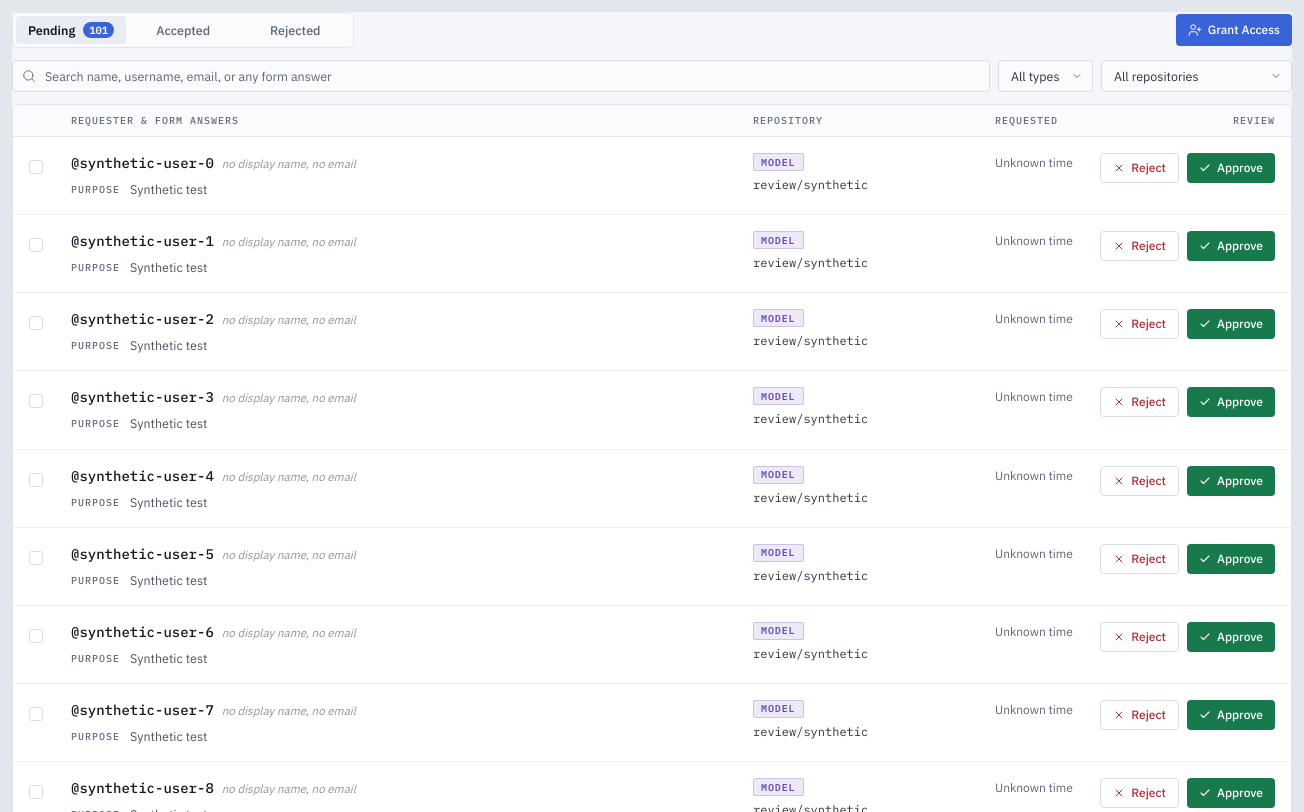
Test: real dashboard integration › caps Select All at 100 before sending the real bulk payload
Expected: the link "@synthetic-user-0" is shown, [71,153,214,173]
Click the checkbox named "Select synthetic-user-0".
click(36, 167)  # box [29,160,43,174]
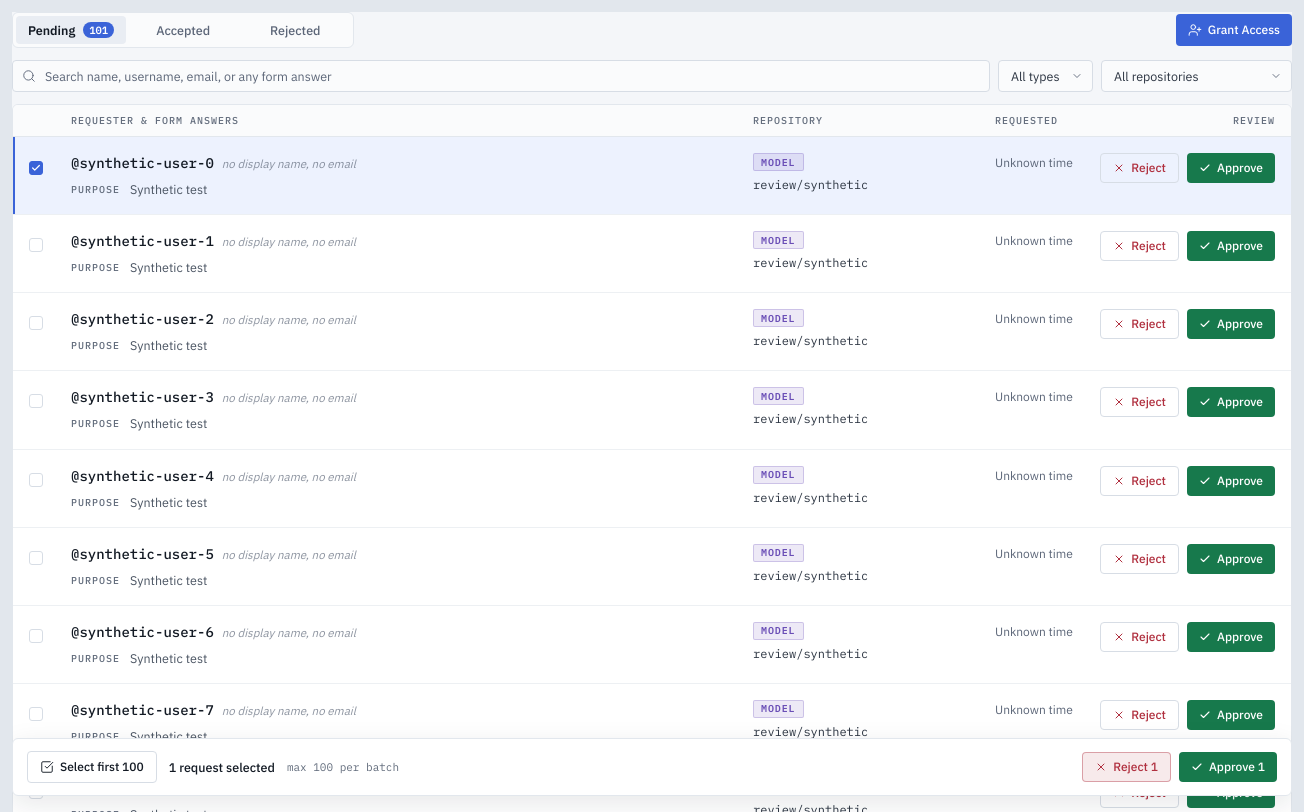
Click the button "Select first 100".
click(92, 767)  # box [27,751,157,783]
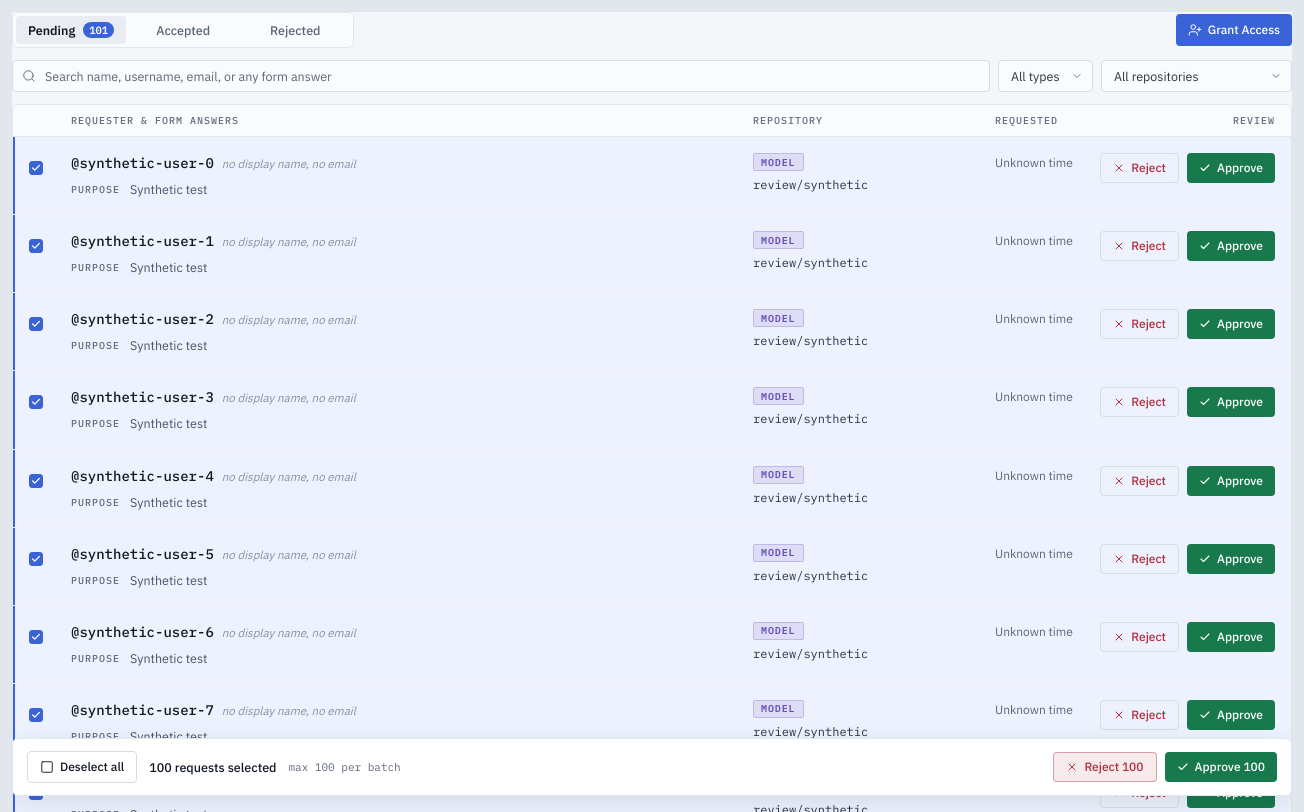
Click the button "Approve 100".
click(1221, 767)  # box [1164,752,1277,782]
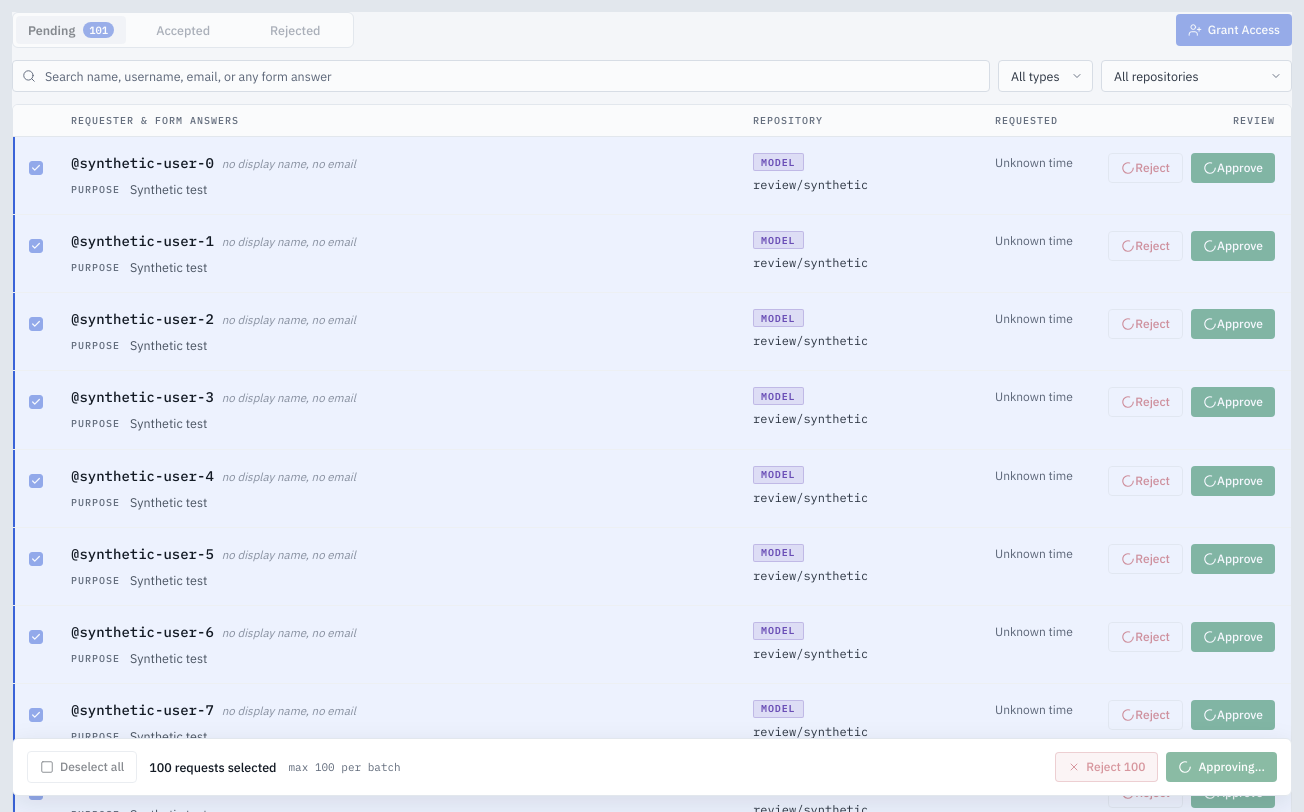
Expected: the button "Reject" in the row of "synthetic-user-0" is disabled, [1108,153,1183,183]
Press the mouse on the tab "Accepted" at (183, 30), box [128,16,238,44]
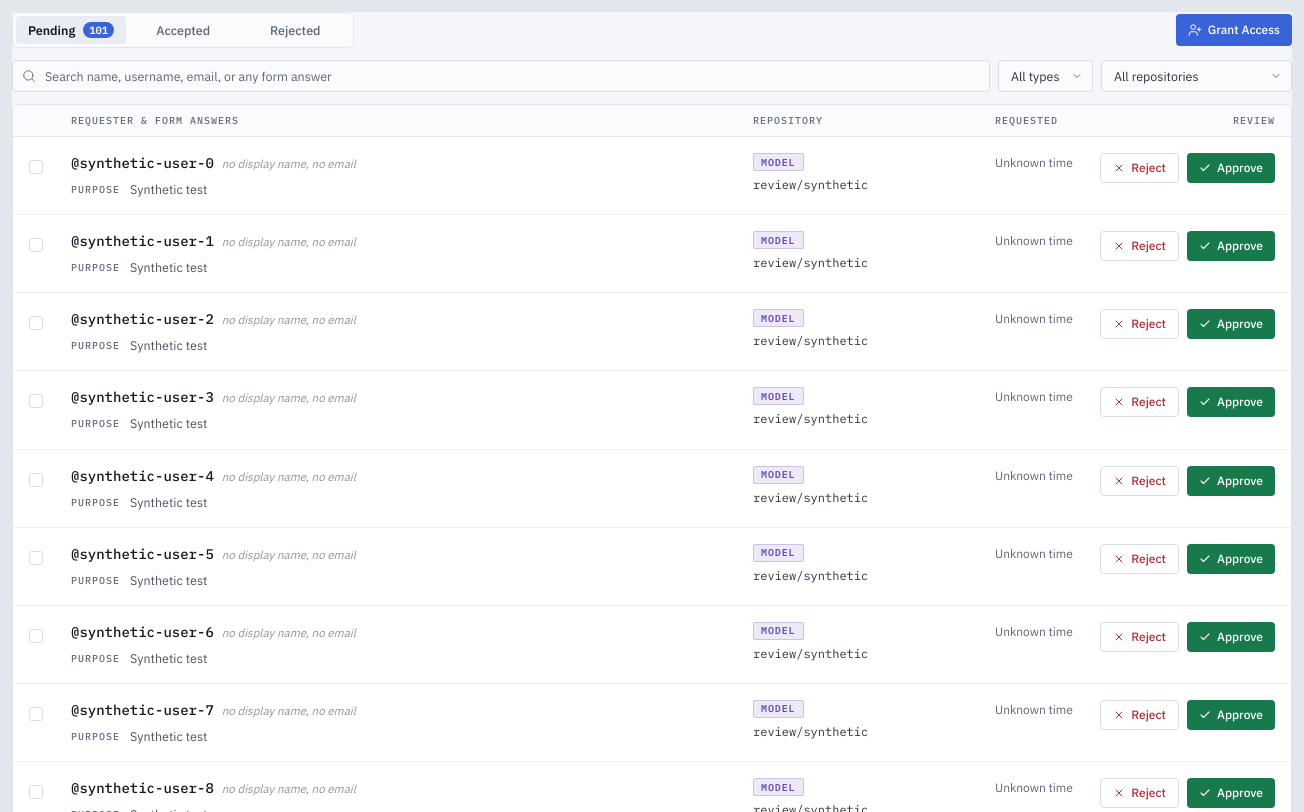
Expected: the tab "Accepted" is enabled, [128,16,238,44]
